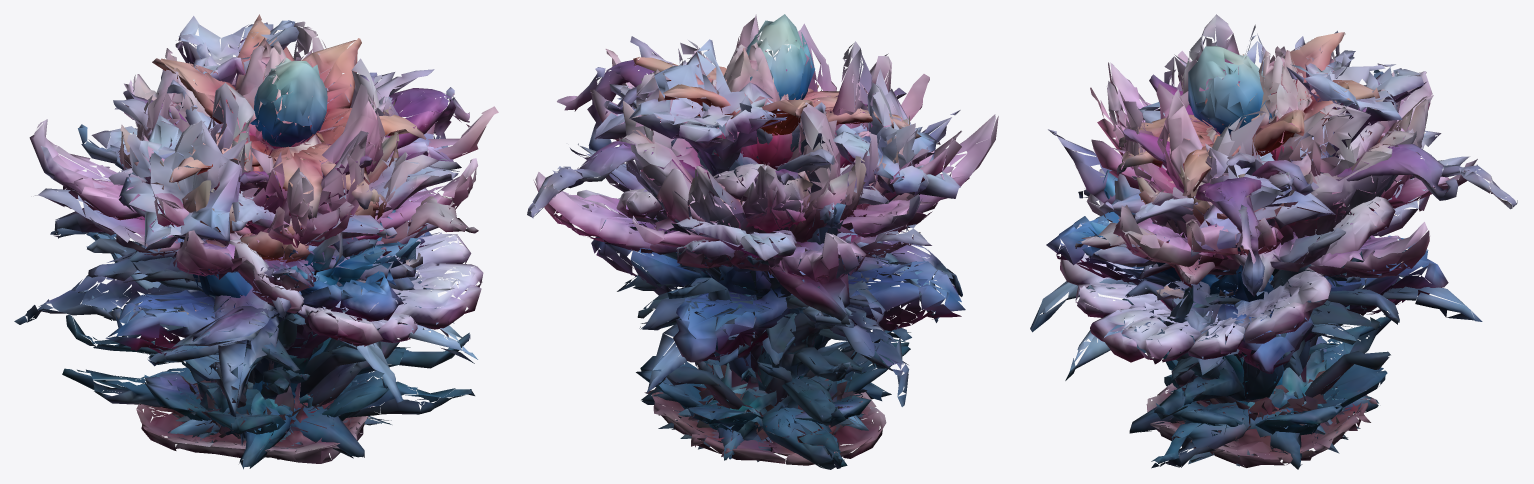
The model's file is flora.glb.
The picture shows the model from 3 angles, left to right: view 1: azimuth 30°, elevation 25°; view 2: azimuth 150°, elevation 25°; view 3: azimuth 270°, elevation 25°; orthographic projection.
Parts seen in each view (by area): view 1: flower7, flower6, flower8, flower1, flower2, flower3, flower5, flower9, flower0, flower4; view 2: flower7, flower2, flower6, flower9, flower8, flower1, flower5, flower3, flower0, flower4; view 3: flower7, flower3, flower2, flower6, flower8, flower5, flower1, flower9, flower0, flower4.
Part boxes in pixels (bbox=[...]): flower7: bbox=[91, 16, 453, 459]; flower6: bbox=[14, 21, 477, 416]; flower8: bbox=[86, 14, 426, 463]; flower1: bbox=[50, 42, 474, 469]; flower2: bbox=[29, 73, 498, 451]; flower3: bbox=[144, 104, 483, 438]; flower5: bbox=[123, 22, 455, 407]; flower9: bbox=[117, 48, 478, 457]; flower0: bbox=[86, 72, 461, 384]; flower4: bbox=[129, 132, 387, 441]; flower7: bbox=[591, 39, 965, 456]; flower2: bbox=[533, 14, 998, 455]; flower6: bbox=[569, 23, 962, 406]; flower9: bbox=[619, 101, 919, 461]; flower8: bbox=[633, 14, 921, 465]; flower1: bbox=[557, 36, 922, 469]; flower5: bbox=[527, 42, 906, 409]; flower3: bbox=[577, 163, 910, 431]; flower0: bbox=[609, 84, 888, 387]; flower4: bbox=[661, 200, 939, 426]; flower7: bbox=[1046, 24, 1448, 456]; flower3: bbox=[1060, 116, 1395, 436]; flower2: bbox=[1090, 30, 1482, 430]; flower6: bbox=[1030, 14, 1469, 380]; flower8: bbox=[1117, 32, 1379, 467]; flower5: bbox=[1109, 46, 1517, 404]; flower1: bbox=[1099, 36, 1409, 469]; flower9: bbox=[1075, 54, 1433, 466]; flower0: bbox=[1078, 50, 1388, 401]; flower4: bbox=[1120, 134, 1378, 408].
Bounding box in the file's own units: 0.2104 × 0.1847 × 0.2151.
1 material, 1 textured.
